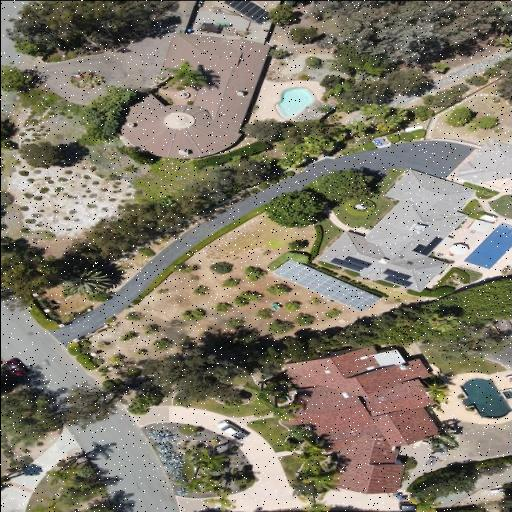solar-panel: (271, 258, 382, 311), (223, 0, 269, 23), (330, 255, 372, 271), (412, 236, 444, 255), (382, 267, 413, 286)
